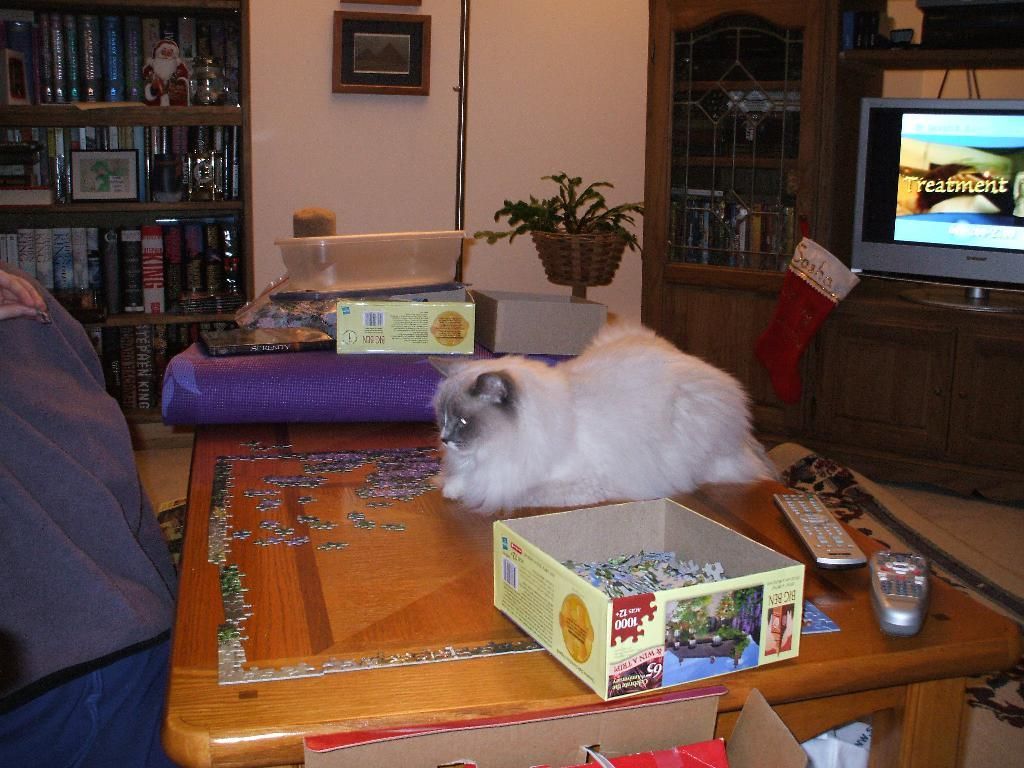Computer-monitor: (846, 97, 1023, 323)
